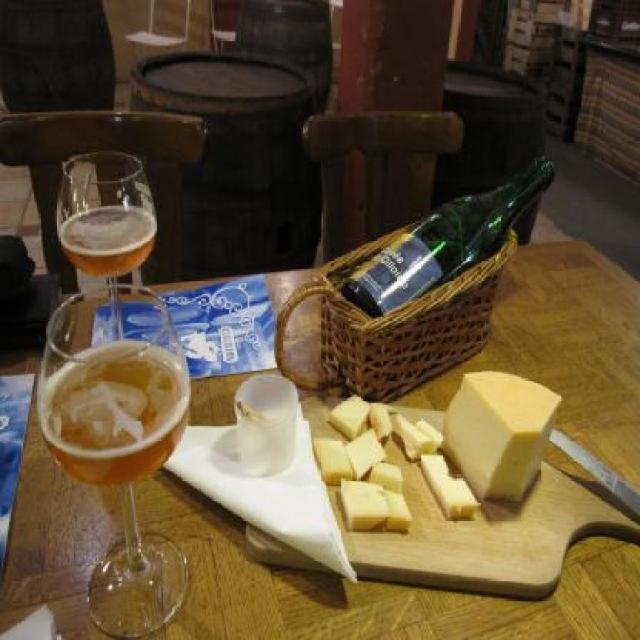Cheese: (312, 388, 479, 530), (440, 372, 563, 503)
